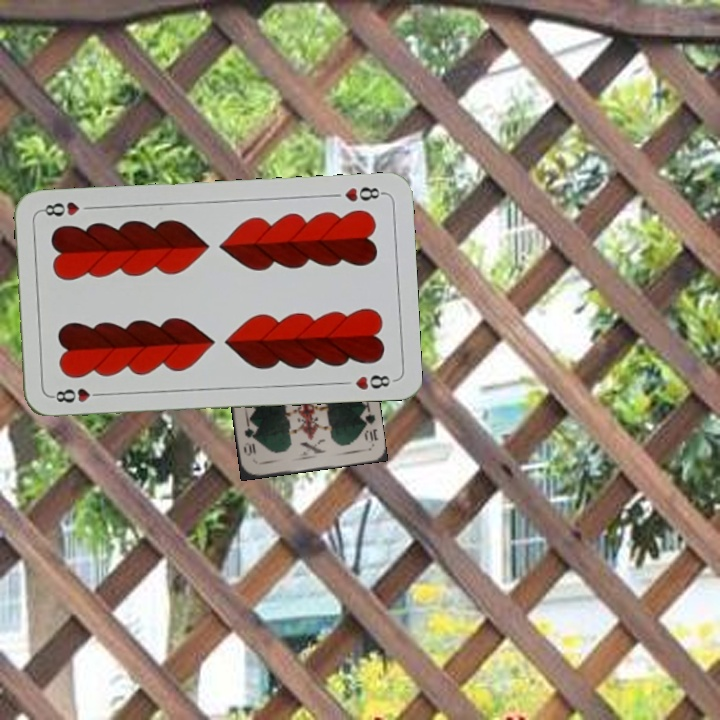G10: (357, 406, 380, 444)
H8: (47, 384, 106, 405), (341, 183, 387, 205)
